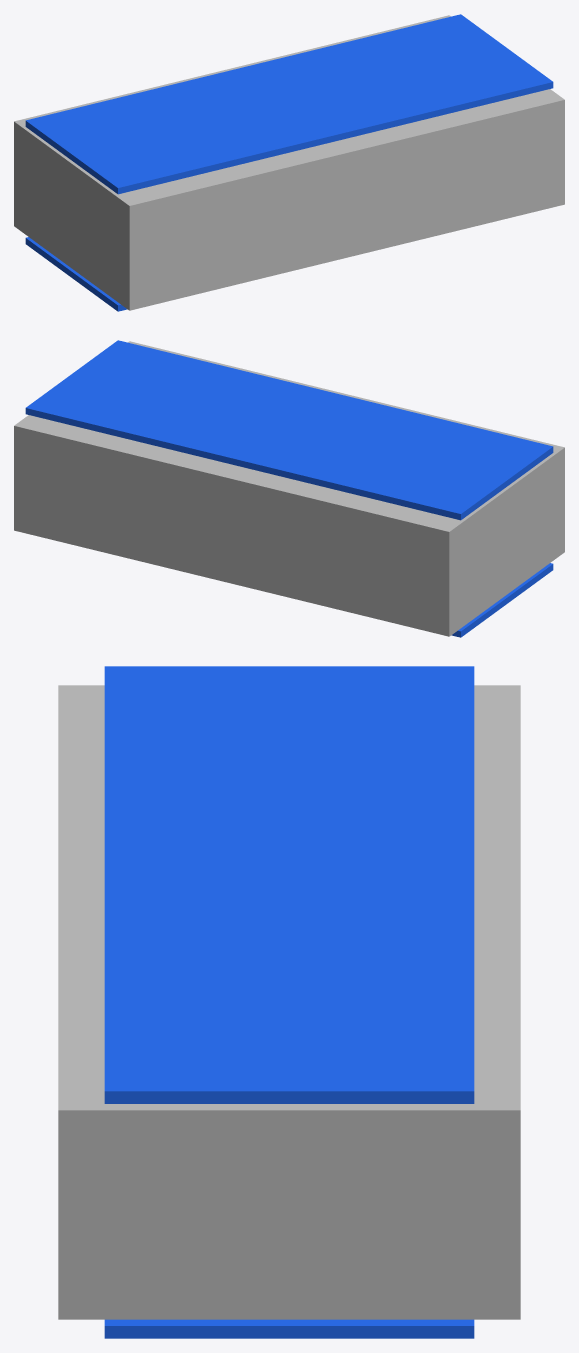
File: 传送带 直.fbx
The picture shows the model from 3 angles, top to bottom: view 1: azimuth 30°, elevation 25°; view 2: azimuth 150°, elevation 25°; view 3: azimuth 270°, elevation 25°; orthographic projection. The views are drawn at different scales.
Visible parts, largest first — view 1: 传送带.001; view 2: 传送带.001; view 3: 传送带.001.
Part boxes in pixels (box(x1,y1,x2,y2)): 传送带.001: box(14, 14, 564, 311); 传送带.001: box(14, 340, 564, 637); 传送带.001: box(58, 666, 520, 1338).
Size of the model in its own units: 218 by 59 by 100.
